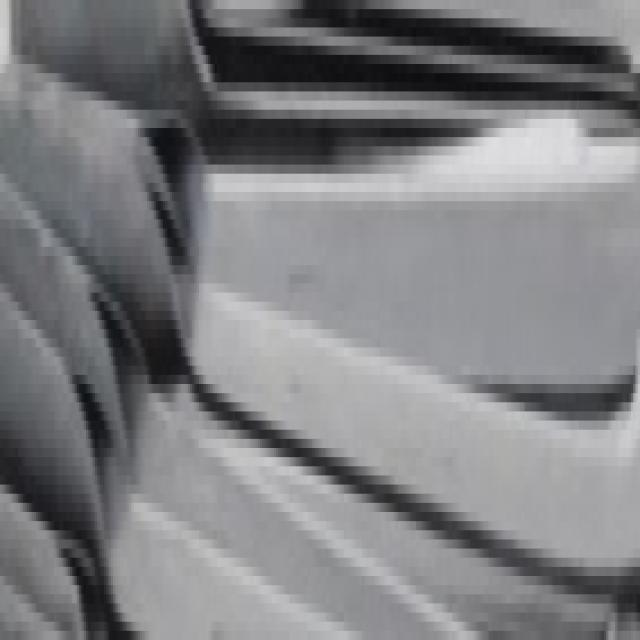knives: (15, 17, 363, 552)
